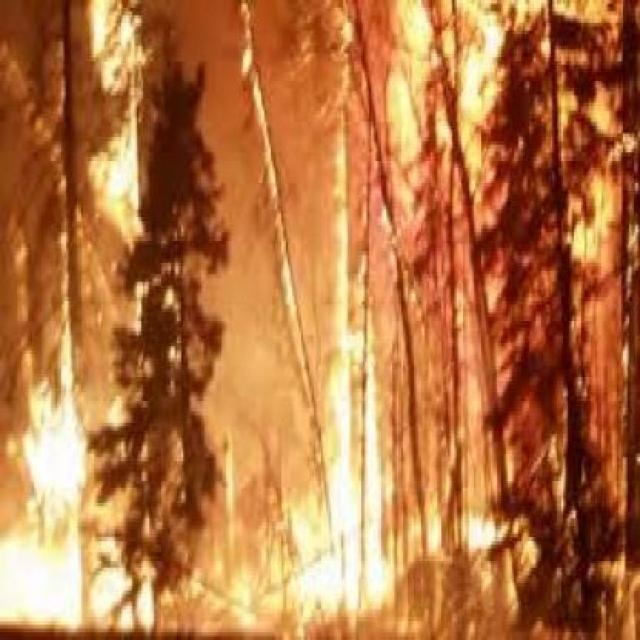Fire: (0, 0, 210, 640), (295, 0, 407, 636)
